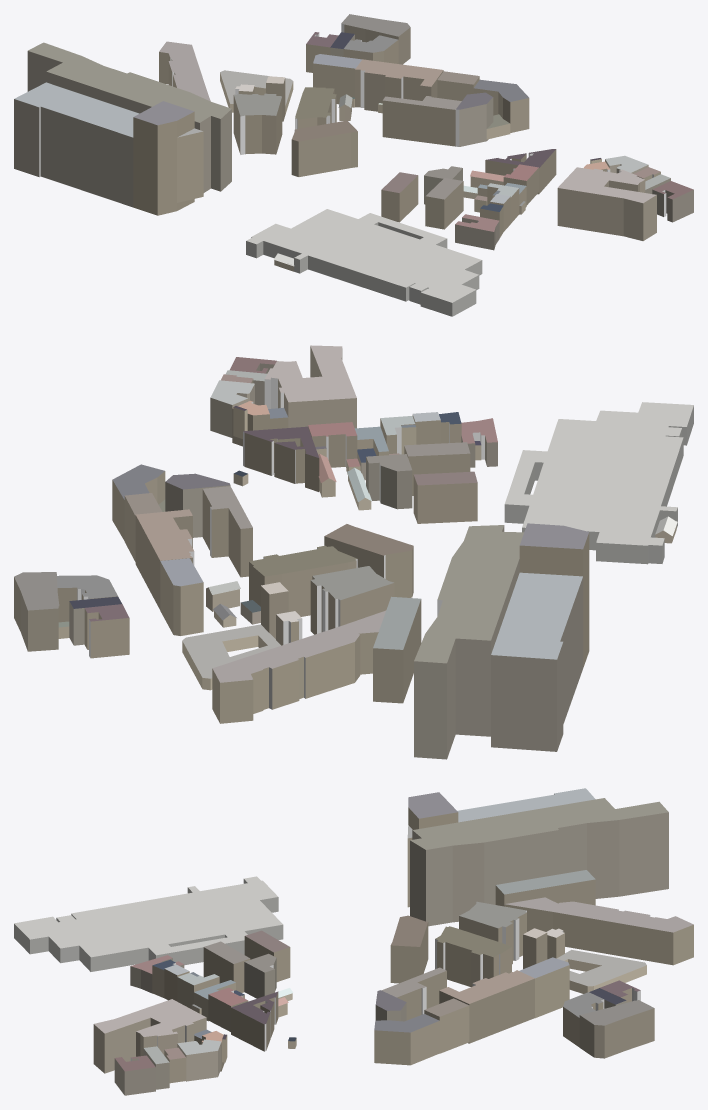
3 views of the same model, one above another, from view 1: azimuth 30°, elevation 25°; view 2: azimuth 150°, elevation 25°; view 3: azimuth 270°, elevation 25° (orthographic). The views are drawn at different scales.
Parts seen in each view (by area): view 1: tuile; view 2: tuile; view 3: tuile.
Boxes of the visible parts, <box> form: tuile: <box>14,14,693,316</box>; tuile: <box>14,345,693,759</box>; tuile: <box>14,788,693,1095</box>.
Bounding box in the file's own units: 278 × 52.09 × 336.
